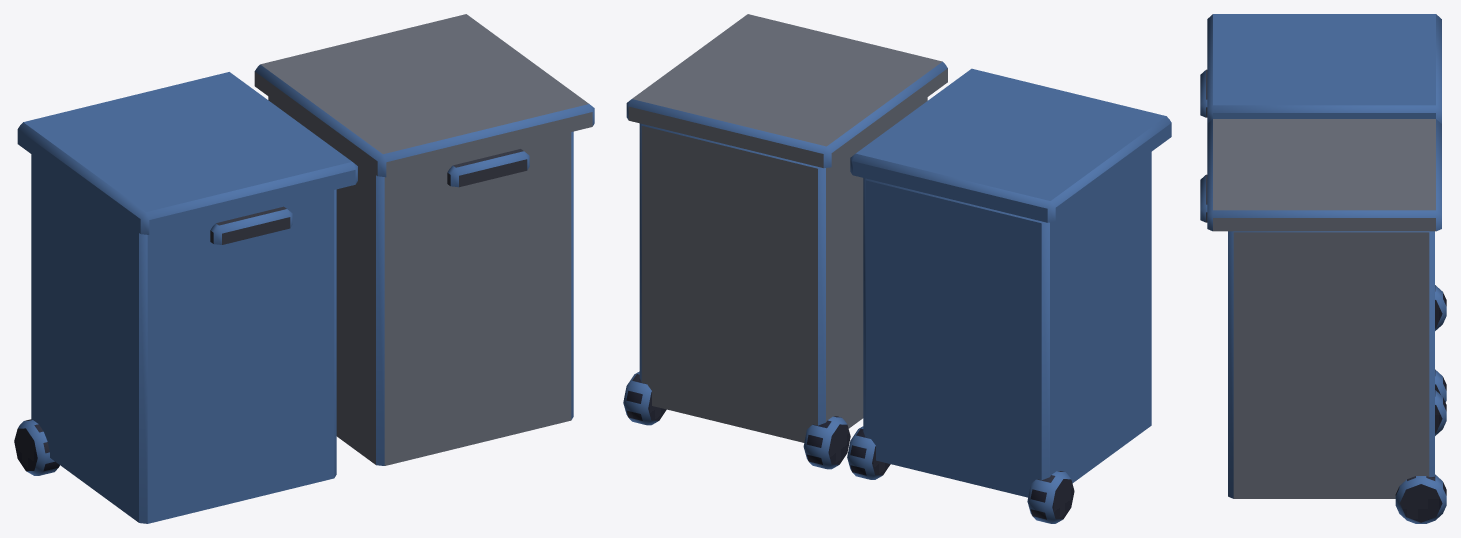
File: trash_bin_2.glb
The picture shows the model from 3 angles, left to right: view 1: azimuth 30°, elevation 25°; view 2: azimuth 150°, elevation 25°; view 3: azimuth 270°, elevation 25°; orthographic projection. The views are drawn at different scales.
Visible parts, largest first — view 1: trash_bin_3; view 2: trash_bin_3; view 3: trash_bin_3.
Boxes of the visible parts, x1,y1,x2,y2 form: trash_bin_3: [14, 14, 594, 523]; trash_bin_3: [623, 14, 1171, 523]; trash_bin_3: [1200, 14, 1446, 523].
Size of the model in its own units: 1.38 by 1 by 0.7137.
4 materials, 4 textured.
